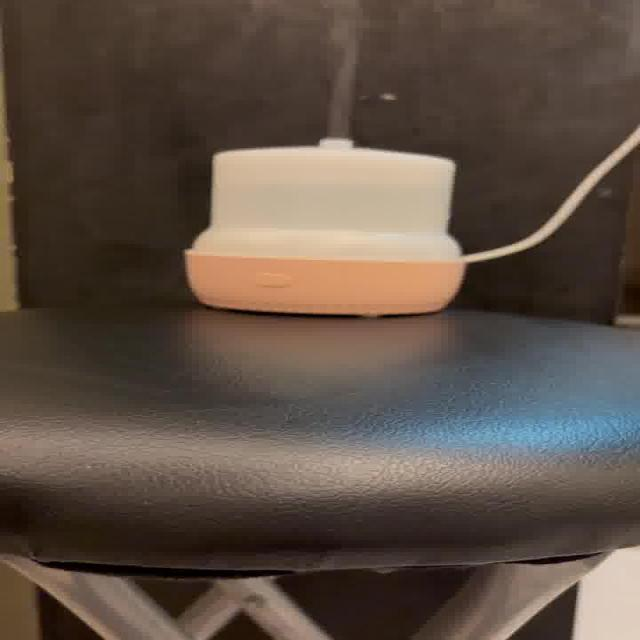fire: (322, 0, 368, 140)
